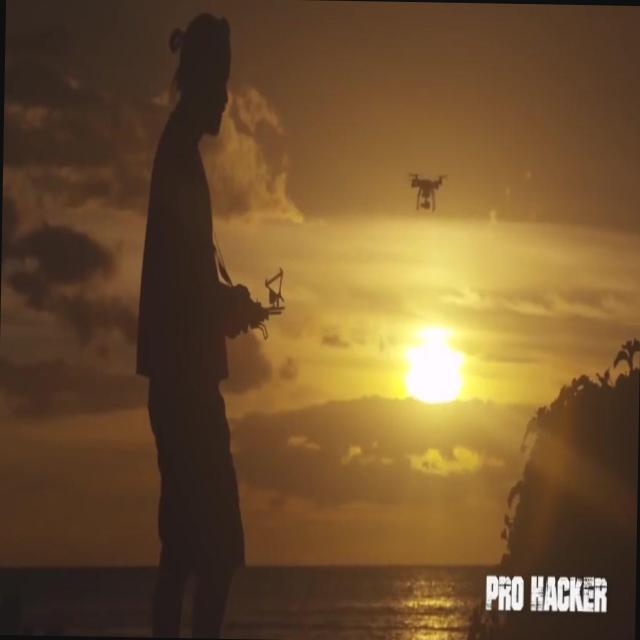drone: (406, 170, 446, 217)
